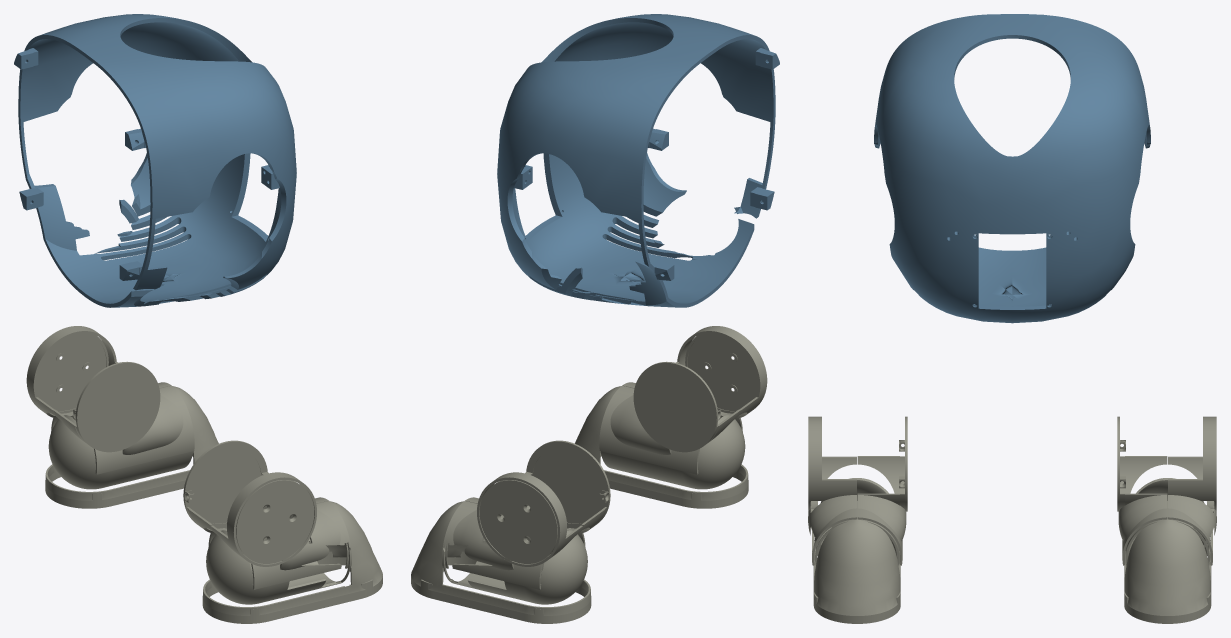
The model's file is seven_same08_native_skins_review.glb.
3 renders of one model, left to right at view 1: azimuth 30°, elevation 25°; view 2: azimuth 150°, elevation 25°; view 3: azimuth 270°, elevation 25°, orthographic.
Parts seen in each view (by area): view 1: front_main_shell, right_visible_AP_outboard_coaxial_service_shell_clearance_00, left_visible_AP_inboard_coaxial_service_shell_clearance_009_, right_integrated_AR_shoe_crown_continuous_009_c03, left_integrated_AR_shoe_crown_continuous_009_c03, left_visible_AP_outboard_coaxial_service_shell_clearance_009, right_visible_AP_inboard_coaxial_service_shell_clearance_009; view 2: front_main_shell, left_visible_AP_outboard_coaxial_service_shell_clearance_009, right_visible_AP_inboard_coaxial_service_shell_clearance_009, left_integrated_AR_shoe_crown_continuous_009_c03, right_integrated_AR_shoe_crown_continuous_009_c03, right_visible_AP_outboard_coaxial_service_shell_clearance_00, left_visible_AP_inboard_coaxial_service_shell_clearance_009_; view 3: front_main_shell, left_integrated_AR_shoe_crown_continuous_009_c03, right_integrated_AR_shoe_crown_continuous_009_c03, left_visible_AP_outboard_coaxial_service_shell_clearance_009, right_visible_AP_outboard_coaxial_service_shell_clearance_00, right_visible_AP_inboard_coaxial_service_shell_clearance_009, left_visible_AP_inboard_coaxial_service_shell_clearance_009_.
Boxes of the visible parts, x1=… form: front_main_shell: x1=14, y1=14, x2=296, y2=307; right_visible_AP_outboard_coaxial_service_shell_clearance_00: x1=211, y1=472, x2=351, y2=589; left_visible_AP_inboard_coaxial_service_shell_clearance_009_: x1=53, y1=361, x2=194, y2=474; right_integrated_AR_shoe_crown_continuous_009_c03: x1=202, y1=501, x2=382, y2=623; left_integrated_AR_shoe_crown_continuous_009_c03: x1=45, y1=386, x2=218, y2=508; left_visible_AP_outboard_coaxial_service_shell_clearance_009: x1=26, y1=326, x2=171, y2=432; right_visible_AP_inboard_coaxial_service_shell_clearance_009: x1=183, y1=440, x2=328, y2=547; front_main_shell: x1=497, y1=14, x2=779, y2=307; left_visible_AP_outboard_coaxial_service_shell_clearance_009: x1=442, y1=472, x2=582, y2=589; right_visible_AP_inboard_coaxial_service_shell_clearance_009: x1=599, y1=361, x2=740, y2=474; left_integrated_AR_shoe_crown_continuous_009_c03: x1=411, y1=501, x2=591, y2=623; right_integrated_AR_shoe_crown_continuous_009_c03: x1=575, y1=386, x2=748, y2=508; right_visible_AP_outboard_coaxial_service_shell_clearance_00: x1=622, y1=326, x2=767, y2=432; left_visible_AP_inboard_coaxial_service_shell_clearance_009_: x1=465, y1=440, x2=610, y2=547; front_main_shell: x1=874, y1=14, x2=1150, y2=323; left_integrated_AR_shoe_crown_continuous_009_c03: x1=1124, y1=478, x2=1211, y2=623; right_integrated_AR_shoe_crown_continuous_009_c03: x1=813, y1=478, x2=900, y2=623; left_visible_AP_outboard_coaxial_service_shell_clearance_009: x1=1168, y1=416, x2=1216, y2=565; right_visible_AP_outboard_coaxial_service_shell_clearance_00: x1=808, y1=416, x2=856, y2=565; right_visible_AP_inboard_coaxial_service_shell_clearance_009: x1=857, y1=416, x2=907, y2=565; left_visible_AP_inboard_coaxial_service_shell_clearance_009_: x1=1117, y1=416, x2=1167, y2=565.
Size of the model in its own units: 0.2065 by 0.4509 by 0.3292.
